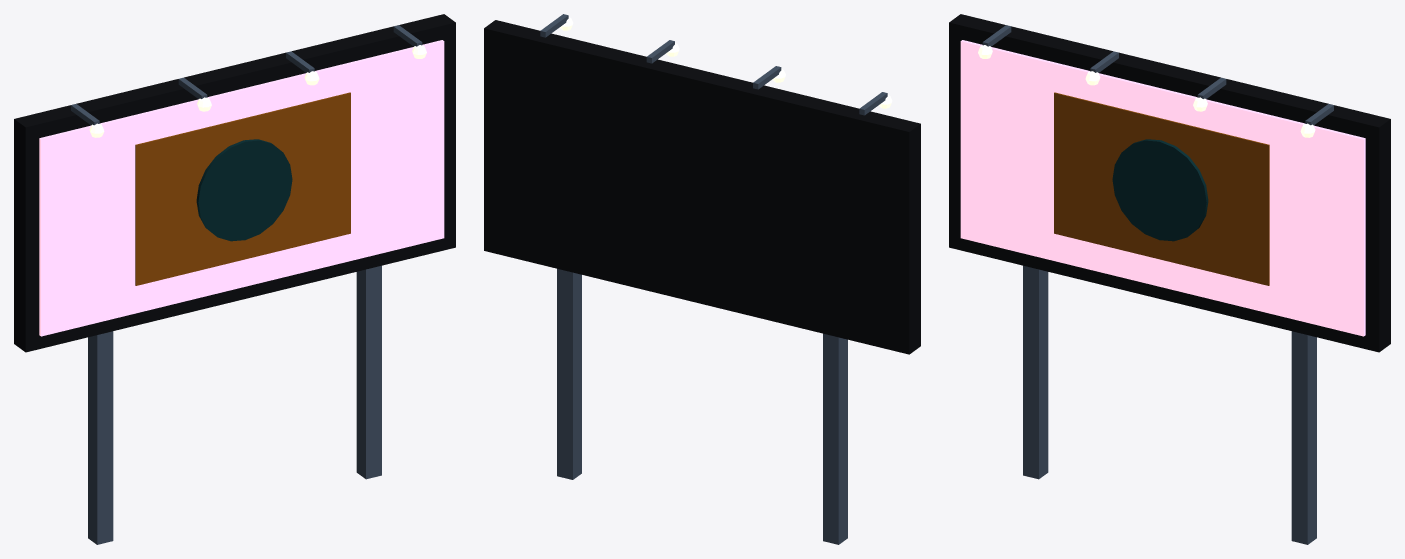
The model's file is billboard.glb.
The picture shows the model from 3 angles, left to right: view 1: azimuth 30°, elevation 25°; view 2: azimuth 150°, elevation 25°; view 3: azimuth 330°, elevation 25°; orthographic projection.
Parts seen in each view (by area): view 1: billboard; view 2: billboard; view 3: billboard.
Boxes of the visible parts, bbox=[...] form: billboard: bbox=[14, 14, 455, 544]; billboard: bbox=[484, 14, 920, 544]; billboard: bbox=[949, 14, 1390, 544].
Size of the model in its own units: 6.4 by 6.28 by 0.85.
